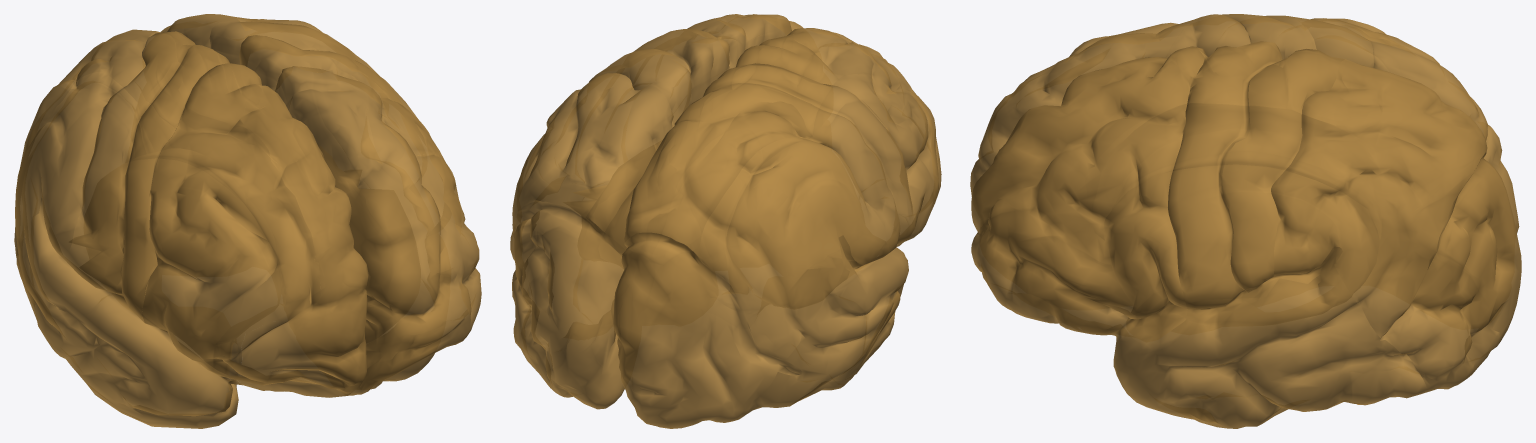
Rendered from pial.obj.
The picture shows the model from 3 angles, left to right: view 1: azimuth 30°, elevation 25°; view 2: azimuth 150°, elevation 25°; view 3: azimuth 270°, elevation 25°; orthographic projection. The views are drawn at different scales.
Parts seen in each view (by area): view 1: R_Parietal_Lobe.002, R_Frontal_Lobe.002, L_Frontal_Lobe.002, R_Temporal_Lobe.002, L_Parietal_Lobe.002, R_Occipital_Lobe.002, R_Postcentral_Gyrus.002, R_Precentral_Gyrus.002, L_Precentral_Gyrus.002, L_Temporal_Lobe.002, L_Postcentral_Gyrus.002; view 2: R_Parietal_Lobe.002, R_Occipital_Lobe.002, R_Frontal_Lobe.002, L_Occipital_Lobe.002, R_Temporal_Lobe.002, L_Parietal_Lobe.002, L_Temporal_Lobe.002, L_Frontal_Lobe.002, R_Postcentral_Gyrus.002, R_Precentral_Gyrus.002, L_Precentral_Gyrus.002, L_Postcentral_Gyrus.002; view 3: L_Parietal_Lobe.002, L_Frontal_Lobe.002, L_Temporal_Lobe.002, L_Occipital_Lobe.002, L_Precentral_Gyrus.002, L_Postcentral_Gyrus.002, R_Frontal_Lobe.002, R_Parietal_Lobe.002, R_Postcentral_Gyrus.002, R_Precentral_Gyrus.002, R_Occipital_Lobe.002.
Boxes of the visible parts, x1,y1,x2,y2 form: R_Parietal_Lobe.002: (14,29,320,374); R_Frontal_Lobe.002: (141,63,368,397); L_Frontal_Lobe.002: (273,66,481,395); R_Temporal_Lobe.002: (16,194,245,428); L_Parietal_Lobe.002: (160,14,420,342); R_Occipital_Lobe.002: (16,72,153,314); R_Postcentral_Gyrus.002: (54,31,209,308); R_Precentral_Gyrus.002: (118,44,244,325); L_Precentral_Gyrus.002: (239,35,443,225); L_Temporal_Lobe.002: (350,107,443,389); L_Postcentral_Gyrus.002: (209,21,421,184); R_Parietal_Lobe.002: (624,102,885,359); R_Occipital_Lobe.002: (613,232,801,428); R_Frontal_Lobe.002: (724,28,941,246); L_Occipital_Lobe.002: (512,201,625,409); R_Temporal_Lobe.002: (702,235,908,415); L_Parietal_Lobe.002: (510,73,673,267); L_Temporal_Lobe.002: (517,164,623,367); L_Frontal_Lobe.002: (595,14,803,174); R_Postcentral_Gyrus.002: (670,84,900,311); R_Precentral_Gyrus.002: (692,63,915,243); L_Precentral_Gyrus.002: (577,29,729,180); L_Postcentral_Gyrus.002: (554,49,691,174); L_Parietal_Lobe.002: (1090,59,1487,341); L_Frontal_Lobe.002: (971,46,1230,335); L_Temporal_Lobe.002: (1103,246,1427,428); L_Occipital_Lobe.002: (1362,151,1521,392); L_Precentral_Gyrus.002: (1168,41,1293,309); L_Postcentral_Gyrus.002: (1222,49,1347,292); R_Frontal_Lobe.002: (970,14,1250,196); R_Parietal_Lobe.002: (1275,18,1487,140); R_Postcentral_Gyrus.002: (1221,15,1374,67); R_Precentral_Gyrus.002: (1167,14,1316,59); R_Occipital_Lobe.002: (1470,113,1519,232).
Size of the model in its own units: 5.88 by 5.29 by 7.77.
